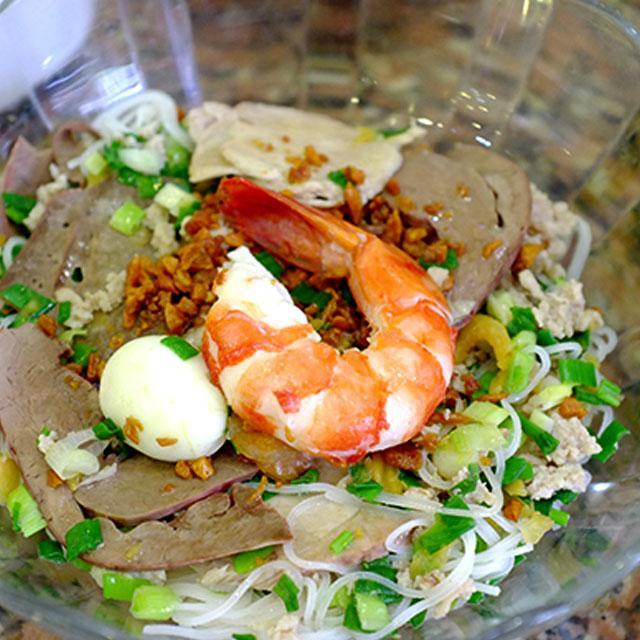banh hu tieu: (380, 341, 560, 619), (115, 545, 508, 640)
gan: (0, 314, 301, 577), (46, 155, 212, 380), (0, 165, 159, 347)
hu tieu: (0, 44, 640, 640)
thit bam: (492, 355, 604, 507), (513, 174, 608, 347), (0, 227, 38, 477)
thit heo: (169, 92, 432, 221)
tom: (186, 167, 463, 473)
trung: (96, 327, 238, 466)
